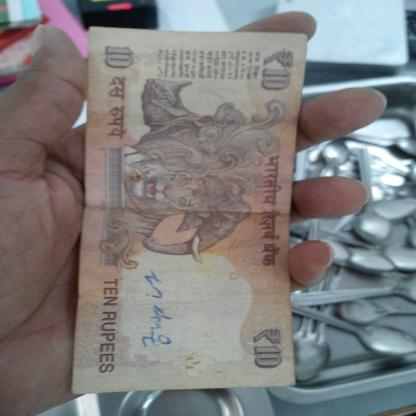Old10Back: (73, 27, 296, 394)
